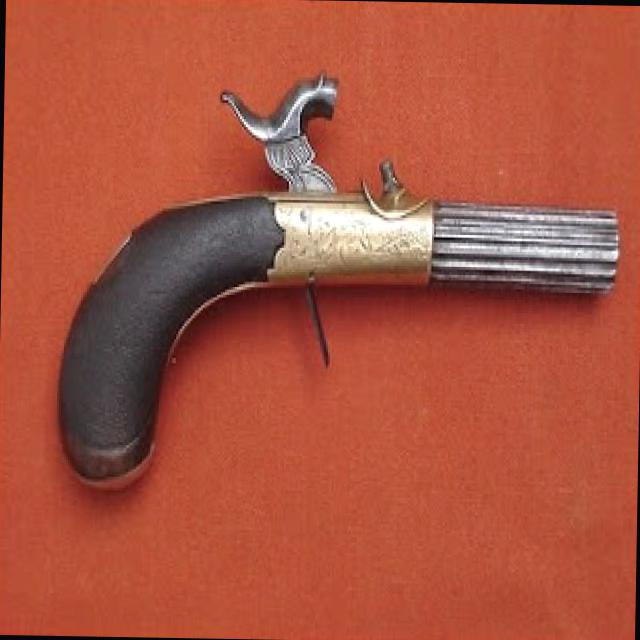handgun: (43, 56, 622, 498)
